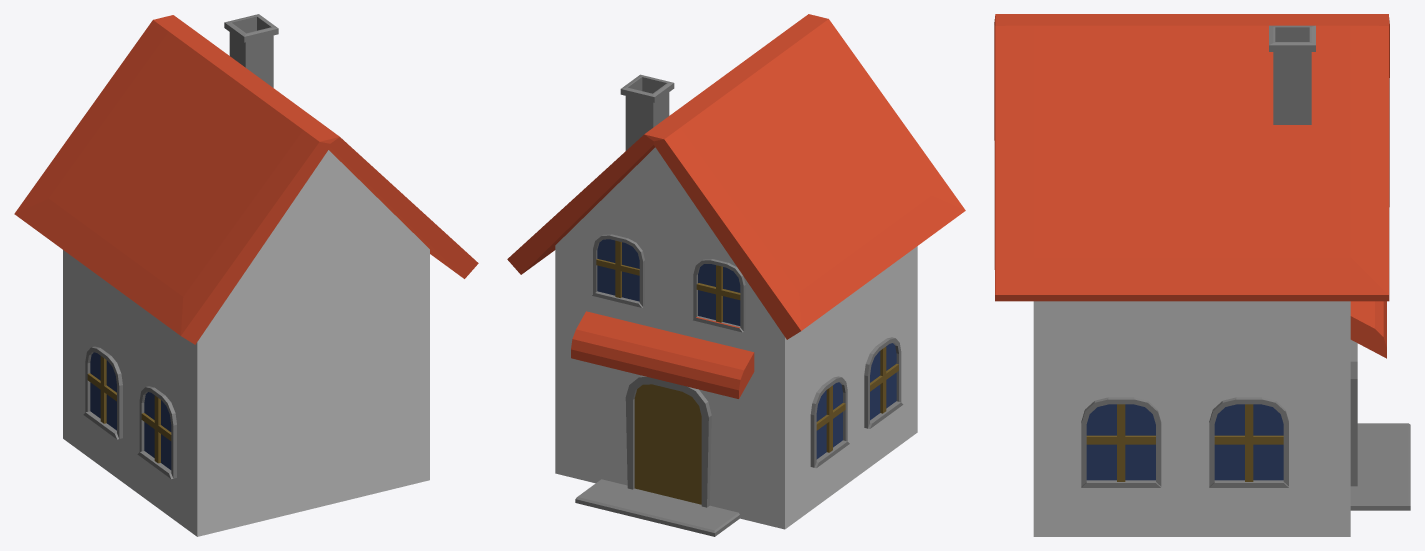
File: House.fbx
The picture shows the model from 3 angles, left to right: view 1: azimuth 30°, elevation 25°; view 2: azimuth 150°, elevation 25°; view 3: azimuth 270°, elevation 25°; orthographic projection. The views are drawn at different scales.
Parts seen in each view (by area): view 1: House 1; view 2: House 1; view 3: House 1.
Part boxes in pixels (<box>): House 1: <box>14,14,478,536</box>; House 1: <box>507,14,965,536</box>; House 1: <box>994,14,1410,536</box>.
Size of the model in its own units: 743 by 934 by 762.
